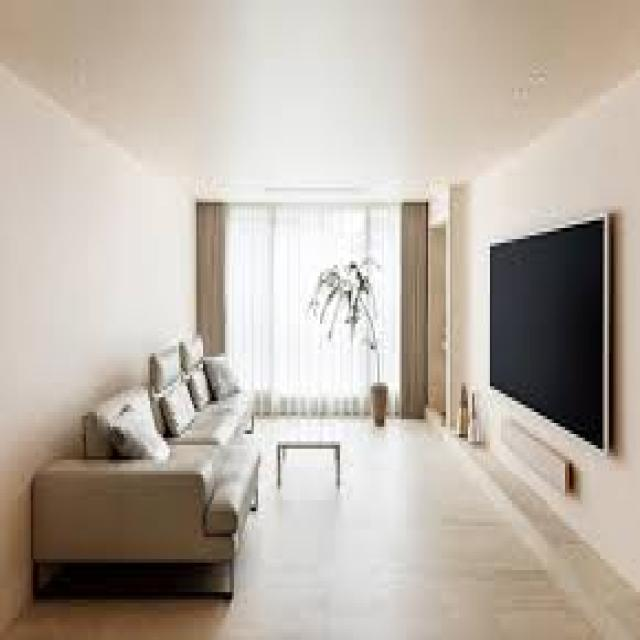Sofa: (33, 333, 266, 610)
Table: (274, 414, 345, 496)
tv: (487, 214, 619, 457)
window: (198, 198, 426, 390)
